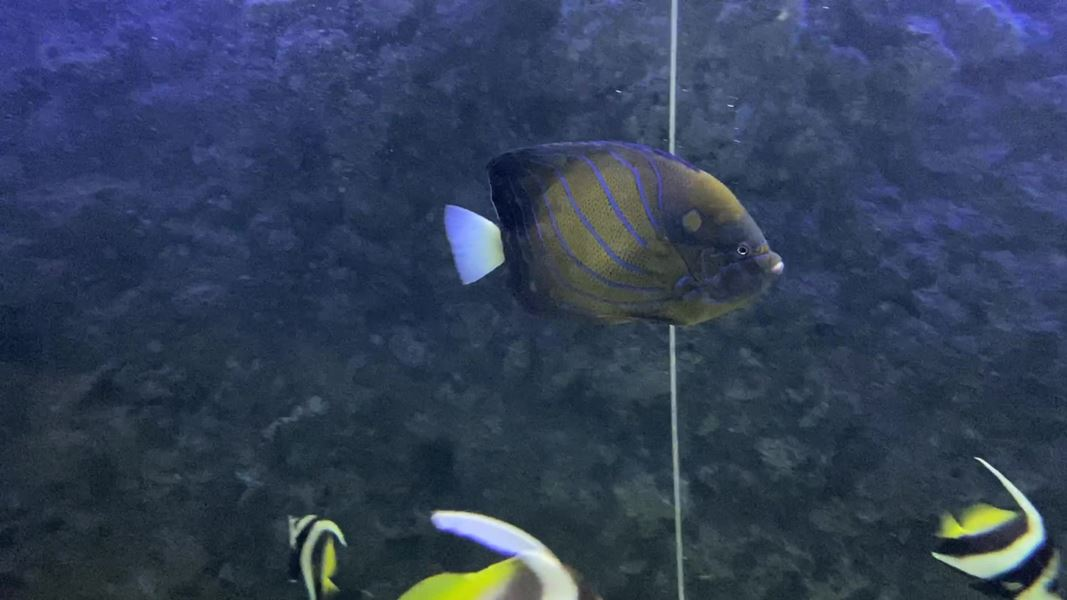Blue ring angelfish: (442, 132, 796, 345)
